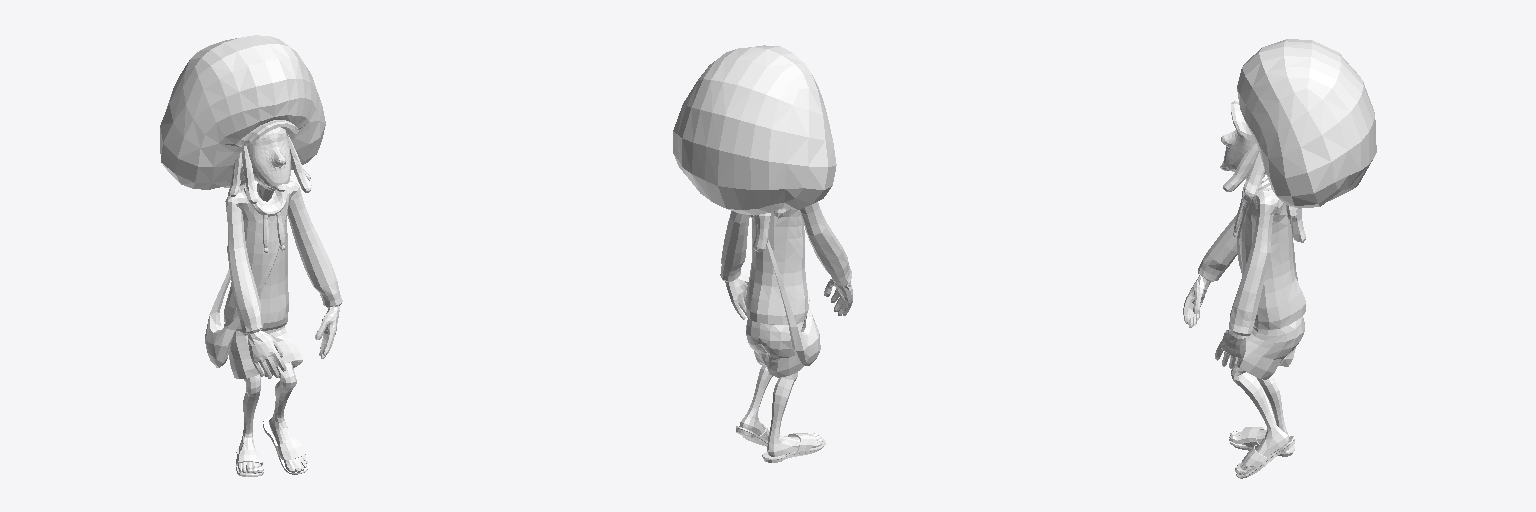
Rendered from kaya.obj.
The picture shows the model from 3 angles: view 1: azimuth 30°, elevation 25°; view 2: azimuth 150°, elevation 25°; view 3: azimuth 270°, elevation 25°; orthographic projection.
Visible parts, largest first — view 1: OccupyGuy_Body_Mesh, OccupyGuy_MouthAnimGeo, OccupyGuy_BrowsAnimGeo; view 2: OccupyGuy_Body_Mesh; view 3: OccupyGuy_Body_Mesh.
Boxes of the visible parts, box(x1,y1,x2,y2) form: OccupyGuy_Body_Mesh: box(160, 35, 342, 476); OccupyGuy_MouthAnimGeo: box(256, 156, 290, 186); OccupyGuy_BrowsAnimGeo: box(251, 127, 287, 150); OccupyGuy_Body_Mesh: box(673, 45, 852, 462); OccupyGuy_Body_Mesh: box(1183, 39, 1376, 478).
Bounding box in the file's own units: 0.7629 × 1.98 × 0.8328.